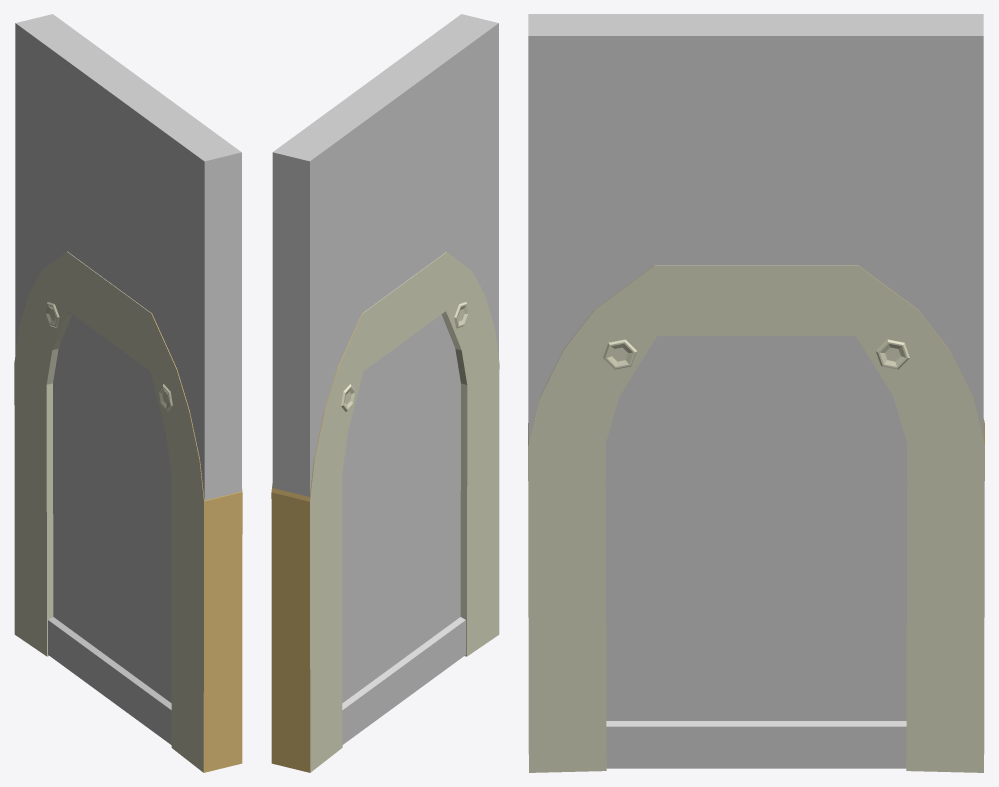
The model's file is PorteCoupeFeu.fbx.
The picture shows the model from 3 angles, left to right: view 1: azimuth 30°, elevation 25°; view 2: azimuth 150°, elevation 25°; view 3: azimuth 270°, elevation 25°; orthographic projection. The views are drawn at different scales.
Parts seen in each view (by area): view 1: mur, Cadre De porte, Porte Droite, Lumiere; view 2: mur, Cadre De porte, Porte Droite, Lumiere; view 3: mur, Porte Droite, Cadre De porte, Lumiere.
Boxes of the visible parts, x1,y1,x2,y2 form: mur: (15, 14, 241, 500); Cadre De porte: (14, 251, 242, 772); Porte Droite: (48, 314, 171, 744); Lumiere: (45, 302, 172, 411); mur: (272, 14, 498, 496); Cadre De porte: (271, 252, 499, 772); Porte Droite: (342, 314, 465, 744); Lumiere: (341, 302, 468, 411); mur: (528, 14, 983, 443); Porte Droite: (605, 336, 907, 768); Cadre De porte: (528, 265, 984, 772); Lumiere: (603, 339, 909, 369).
Bounding box in the file's own units: 37.07 × 525 × 295.
